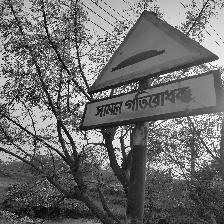Speed-breaker: (84, 9, 224, 132)
